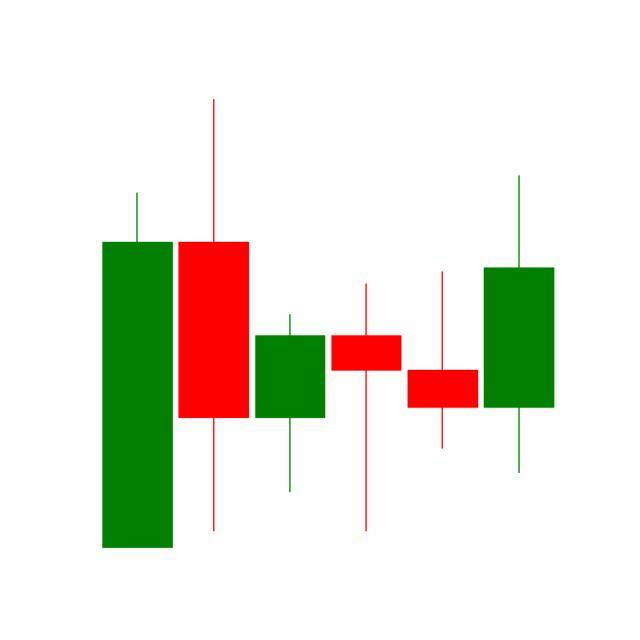Gravestone Doji: (404, 271, 482, 453)
